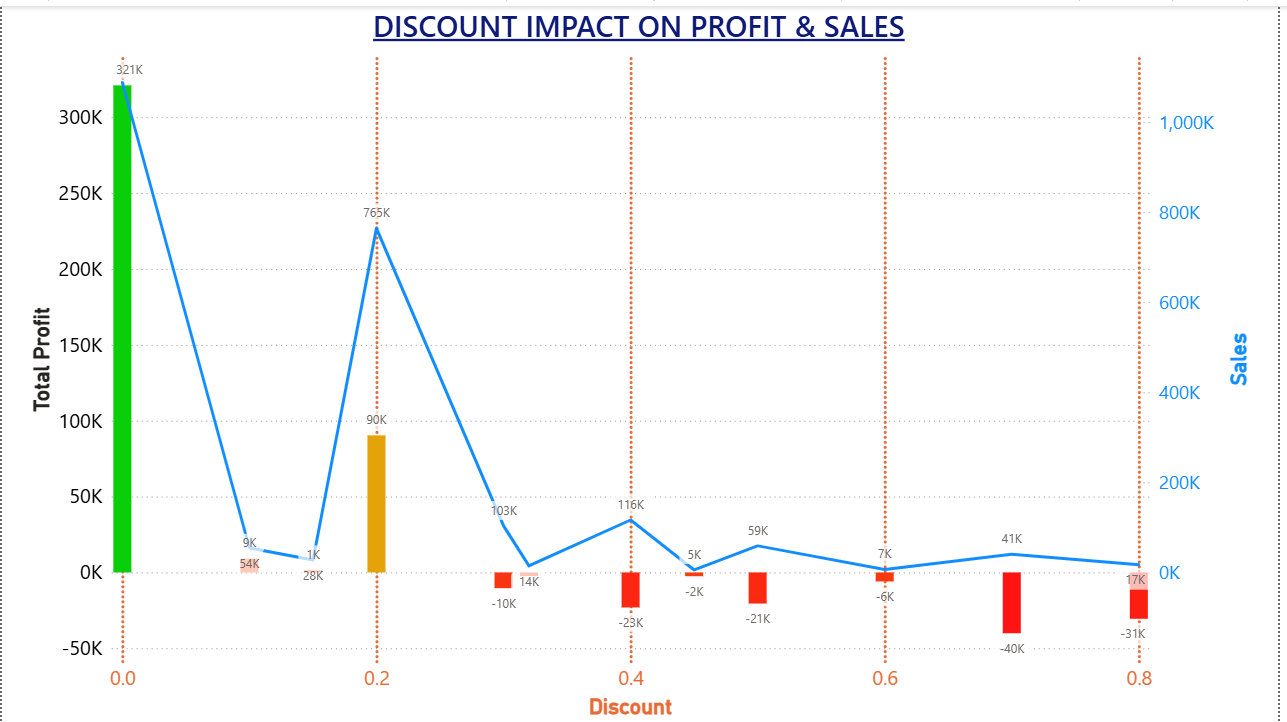

This screenshot's page, from the dashboard's own definition file:
{"tool":"powerbi","page":{"name":"Discount Impact","canvas":[1280,720],"ordinal":1},"visuals":[{"type":"lineClusteredColumnComboChart","title":"DISCOUNT IMPACT ON PROFIT & SALES","fields":{"Category":["Discount_Impact.Discount"],"Y":["Sum(Discount_Impact.Total_Profit)"],"Y2":["Sum(Discount_Impact.Total_Sales)"]},"box":[21.7,0,1234.3,720.1],"z":0}]}

Visuals, with their boxes in screenshot pixels (x1, y1, x2, y2), scaled from the page's 1280x720 canvas onto the 1287x722 screenshot:
"DISCOUNT IMPACT ON PROFIT & SALES" lineClusteredColumnComboChart: rect(22, 0, 1263, 721)
